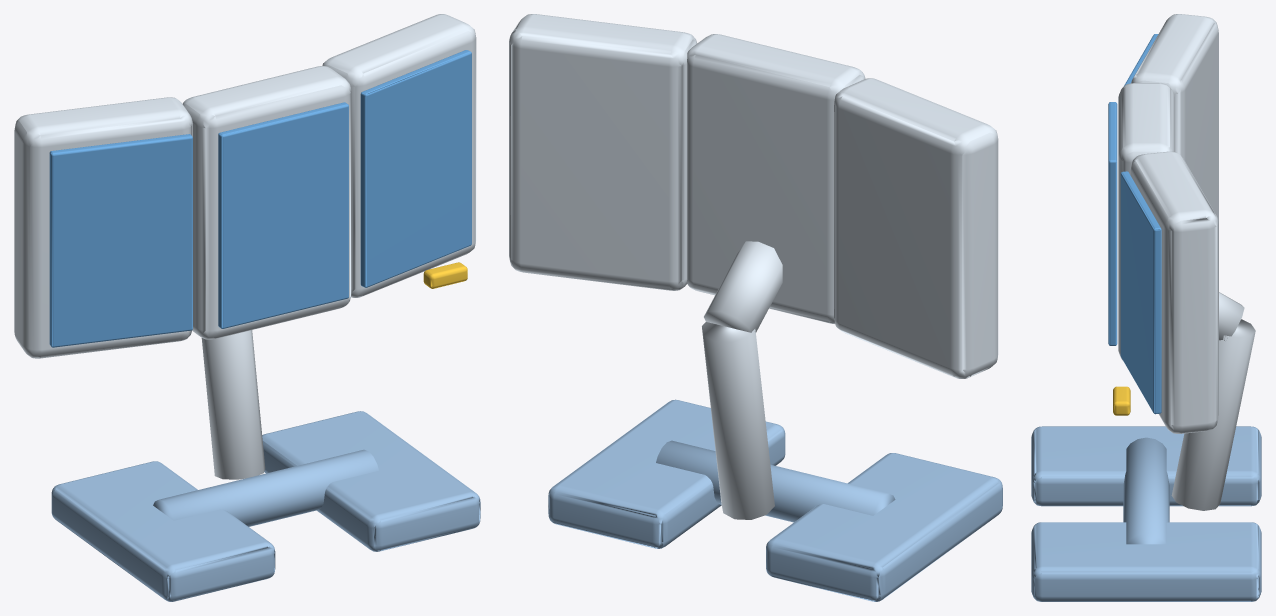
The model's file is pcv_curved_monitor_shelter.glb.
3 renders of one model, left to right at view 1: azimuth 30°, elevation 25°; view 2: azimuth 150°, elevation 25°; view 3: azimuth 270°, elevation 25°, orthographic. The views are drawn at different scales.
Visible parts, largest first — view 1: pcv_curved_monitor_shelter_MOBILE_JOINED; view 2: pcv_curved_monitor_shelter_MOBILE_JOINED; view 3: pcv_curved_monitor_shelter_MOBILE_JOINED.
Boxes of the visible parts, <box> form: pcv_curved_monitor_shelter_MOBILE_JOINED: <box>14,14,480,601</box>; pcv_curved_monitor_shelter_MOBILE_JOINED: <box>509,14,1002,601</box>; pcv_curved_monitor_shelter_MOBILE_JOINED: <box>1031,14,1261,601</box>.
Size of the model in its own units: 1.4 by 1.31 by 0.65.
